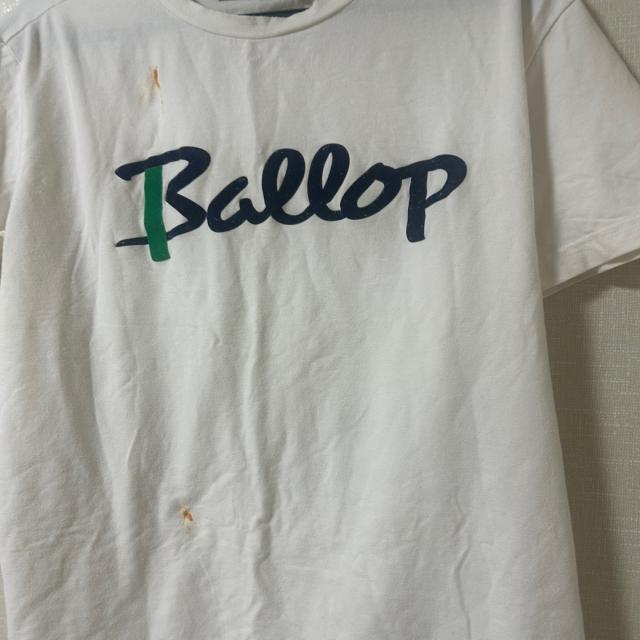stain: (138, 60, 182, 95), (176, 506, 213, 542)
